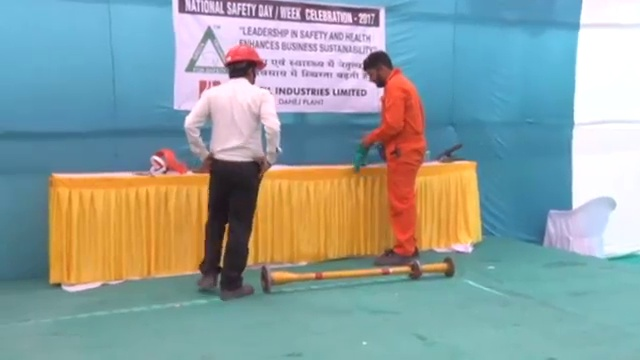helmet: (222, 43, 266, 72)
helmet_off: (363, 50, 396, 90)
helmet_on: (220, 43, 267, 84)
person: (182, 42, 282, 301), (357, 49, 428, 264)
